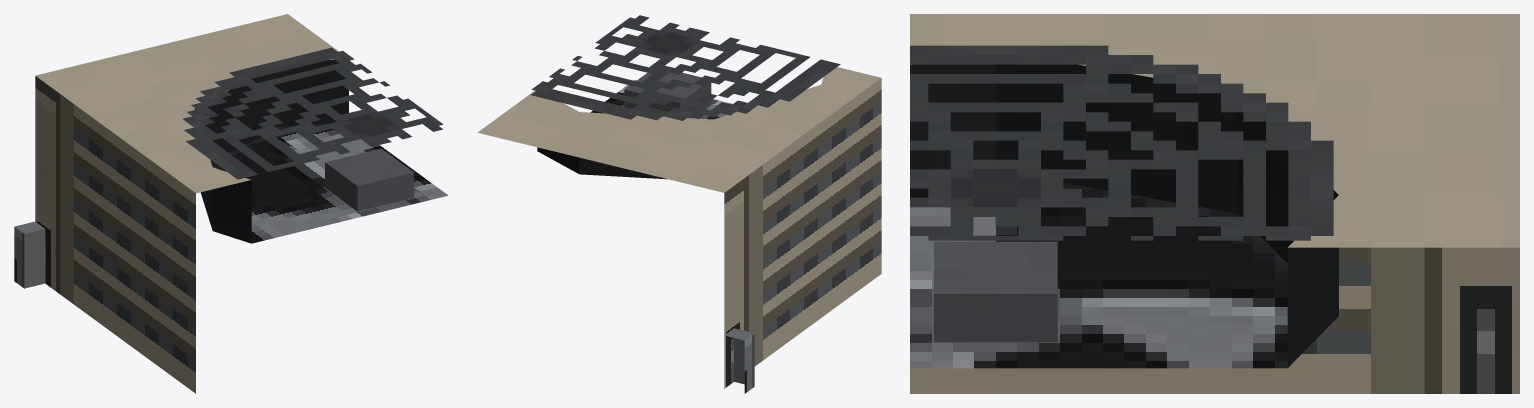
Rendered from rtu_large_xm1_y1_z2.obj.
3 views of the same model, side by side, from view 1: azimuth 30°, elevation 25°; view 2: azimuth 150°, elevation 25°; view 3: azimuth 270°, elevation 25° (orthographic). The views are drawn at different scales.
Parts seen in each view (by area): view 1: unit; view 2: unit; view 3: unit.
Boxes of the visible parts, box(x1,y1,x2,y2) form: unit: box(14, 14, 448, 393); unit: box(478, 15, 881, 393); unit: box(910, 14, 1519, 393).
Bounding box in the file's own units: 0.9812 × 0.7 × 1.
